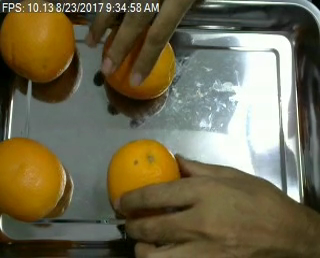Orange: (1, 1, 75, 82), (1, 137, 66, 220)
